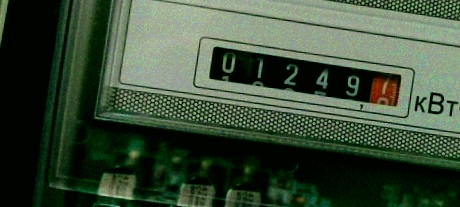0: (219, 47, 238, 74)
1: (251, 52, 266, 79)
2: (280, 60, 299, 87)
4: (313, 64, 331, 90)
7: (377, 69, 393, 96)
9: (341, 71, 360, 98)
screen: (189, 33, 418, 121)
